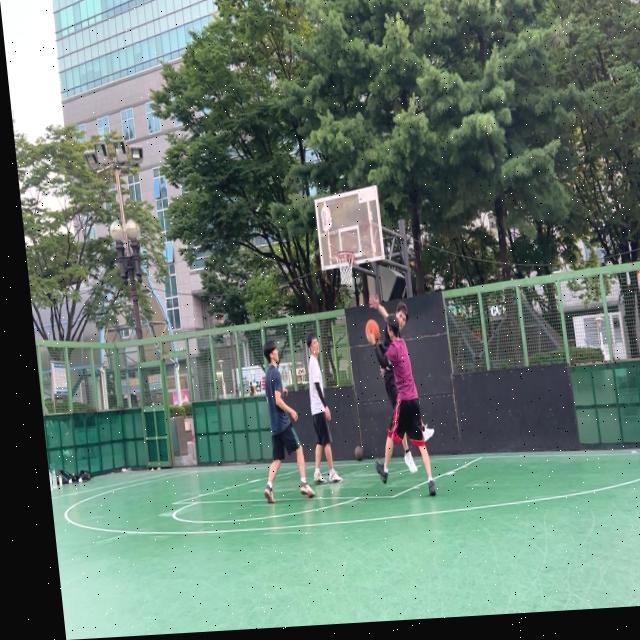basketball: (364, 318, 381, 344)
hoop: (334, 250, 357, 287)
